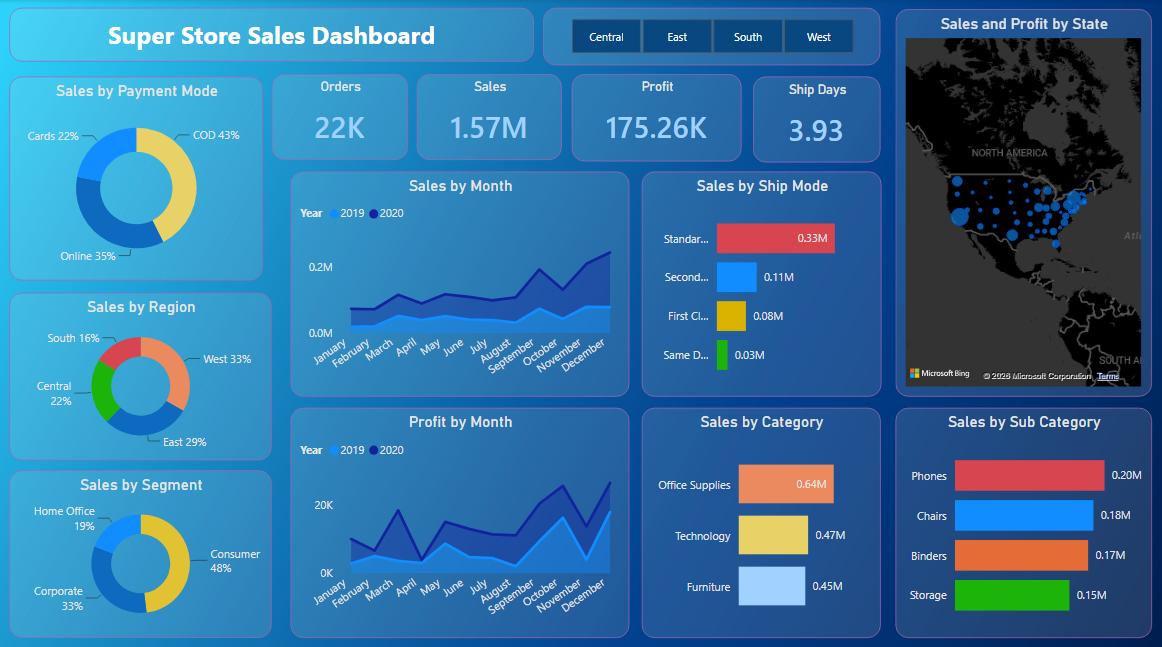

This screenshot's page, from the dashboard's own definition file:
{"tool":"powerbi","page":{"name":"Page 1","canvas":[1280,720],"ordinal":0},"visuals":[{"type":"clusteredBarChart","title":"Sales by Category","fields":{"Category":["SuperStore_Sales_Dataset.Category"],"Y":["Sum(SuperStore_Sales_Dataset.Sales)"]},"box":[706.7,448.7,262.1,252.5],"z":0},{"type":"clusteredBarChart","title":"Sales by Sub Category","fields":{"Category":["SuperStore_Sales_Dataset.Sub-Category"],"Y":["Sum(SuperStore_Sales_Dataset.Sales)"]},"box":[985.3,448.7,281.3,252.5],"z":1000},{"type":"clusteredBarChart","title":"Sales by Ship Mode","fields":{"Category":["SuperStore_Sales_Dataset.Ship Mode"],"Y":["Sum(SuperStore_Sales_Dataset.Sales)"]},"box":[706.7,189.4,263.5,247],"z":2000},{"type":"stackedAreaChart","title":"Sales by Month","fields":{"Category":["SuperStore_Sales_Dataset.Order Date.Variation.Date Hierarchy.Month","SuperStore_Sales_Dataset.Order Date.Variation.Date Hierarchy.Day"],"Y":["Sum(SuperStore_Sales_Dataset.Sales)"],"Series":["SuperStore_Sales_Dataset.Order Date.Variation.Date Hierarchy.Year"]},"box":[321.1,189.4,371.9,247],"z":3000},{"type":"stackedAreaChart","title":"Profit by Month","fields":{"Category":["SuperStore_Sales_Dataset.Order Date.Variation.Date Hierarchy.Month","SuperStore_Sales_Dataset.Order Date.Variation.Date Hierarchy.Day"],"Series":["SuperStore_Sales_Dataset.Order Date.Variation.Date Hierarchy.Year"],"Y":["Sum(SuperStore_Sales_Dataset.Profit)"]},"box":[321.1,448.7,371.9,252.5],"z":4000},{"type":"map","title":"Sales and Profit by State","fields":{"Category":["SuperStore_Sales_Dataset.State"],"Size":["Sum(SuperStore_Sales_Dataset.Sales)"]},"box":[985.3,11,281.3,425.4],"z":5000},{"type":"donutChart","title":"Sales by Segment","fields":{"Category":["SuperStore_Sales_Dataset.Segment"],"Y":["Sum(SuperStore_Sales_Dataset.Sales)"]},"box":[12.3,517.3,288.2,183.9],"z":6000},{"type":"donutChart","title":"Sales by Payment Mode","fields":{"Category":["SuperStore_Sales_Dataset.Payment Mode"],"Y":["Sum(SuperStore_Sales_Dataset.Sales)"]},"box":[12.3,85.1,278.6,223.7],"z":7000},{"type":"slicer","fields":{"Values":["SuperStore_Sales_Dataset.Region"]},"box":[598.3,9.6,370.5,63.1],"z":8000},{"type":"textbox","box":[12.3,9.6,576.3,59],"z":9000},{"type":"cardVisual","title":"Sales","fields":{"Data":["Sum(SuperStore_Sales_Dataset.Sales)"]},"box":[459.7,82.3,159.2,94.7],"z":10000},{"type":"cardVisual","title":"Orders","fields":{"Data":["Sum(SuperStore_Sales_Dataset.Quantity)"]},"box":[300.5,82.3,149.6,94.7],"z":11000},{"type":"cardVisual","title":"Profit","fields":{"Data":["Sum(SuperStore_Sales_Dataset.Profit)"]},"box":[629.8,82.3,186.6,96.1],"z":12000},{"type":"cardVisual","title":"Ship Days","fields":{"Data":["Avg(SuperStore_Sales_Dataset.AvgDelivery)"]},"box":[828.8,85.1,140,94.7],"z":13000},{"type":"donutChart","title":"Sales by Region","fields":{"Category":["SuperStore_Sales_Dataset.Region"],"Y":["Sum(SuperStore_Sales_Dataset.Sales)"]},"box":[12.3,322.5,288.2,183.9],"z":14000}]}

Visuals, with their boxes in screenshot pixels (x1, y1, x2, y2), scaled from the page's 1280x720 canvas onto the 1162x647 screenshot:
"Sales by Category" clusteredBarChart: bbox=[642, 403, 879, 630]
"Sales by Sub Category" clusteredBarChart: bbox=[894, 403, 1150, 630]
"Sales by Ship Mode" clusteredBarChart: bbox=[642, 170, 881, 392]
"Sales by Month" stackedAreaChart: bbox=[291, 170, 629, 392]
"Profit by Month" stackedAreaChart: bbox=[291, 403, 629, 630]
"Sales and Profit by State" map: bbox=[894, 10, 1150, 392]
"Sales by Segment" donutChart: bbox=[11, 465, 273, 630]
"Sales by Payment Mode" donutChart: bbox=[11, 76, 264, 277]
slicer - SuperStore_Sales_Dataset.Region: bbox=[543, 9, 879, 65]
textbox: bbox=[11, 9, 534, 62]
"Sales" cardVisual: bbox=[417, 74, 562, 159]
"Orders" cardVisual: bbox=[273, 74, 409, 159]
"Profit" cardVisual: bbox=[572, 74, 741, 160]
"Ship Days" cardVisual: bbox=[752, 76, 879, 162]
"Sales by Region" donutChart: bbox=[11, 290, 273, 455]
